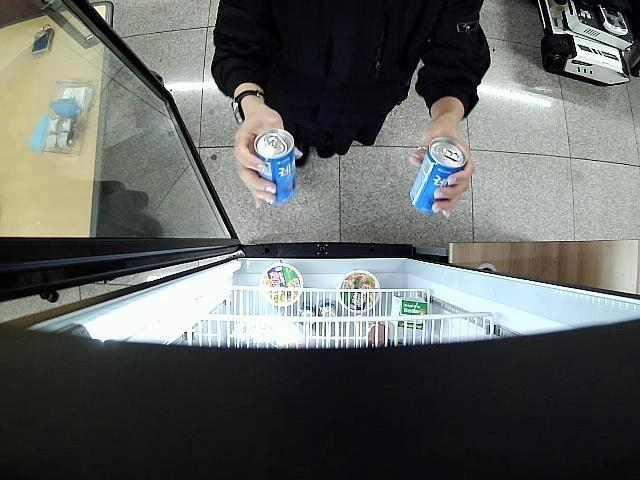15_letsbe: (412, 138, 467, 214), (254, 128, 298, 204)
